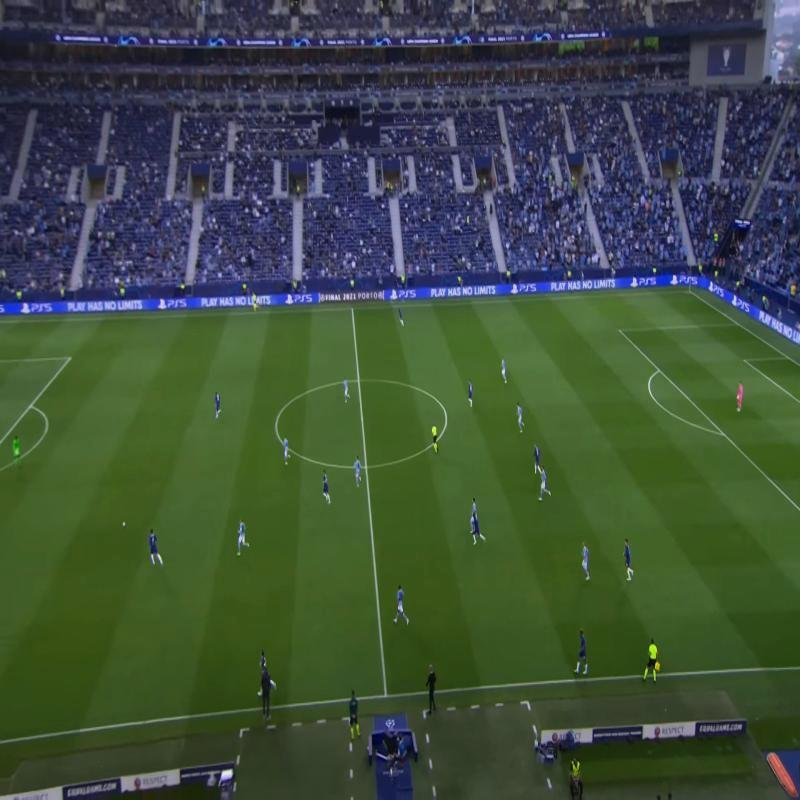1: (682, 284, 697, 300)
10: (23, 398, 39, 414), (652, 363, 666, 379)
11: (716, 426, 730, 442)
13: (344, 302, 360, 316)
14: (351, 374, 366, 388)
15: (360, 460, 373, 474)
16: (378, 688, 393, 704)
2: (730, 317, 746, 332)
3: (780, 349, 796, 364)
7: (737, 352, 752, 368)
9: (63, 350, 79, 366), (612, 322, 627, 338)
c: (270, 419, 284, 434), (441, 407, 455, 421)
